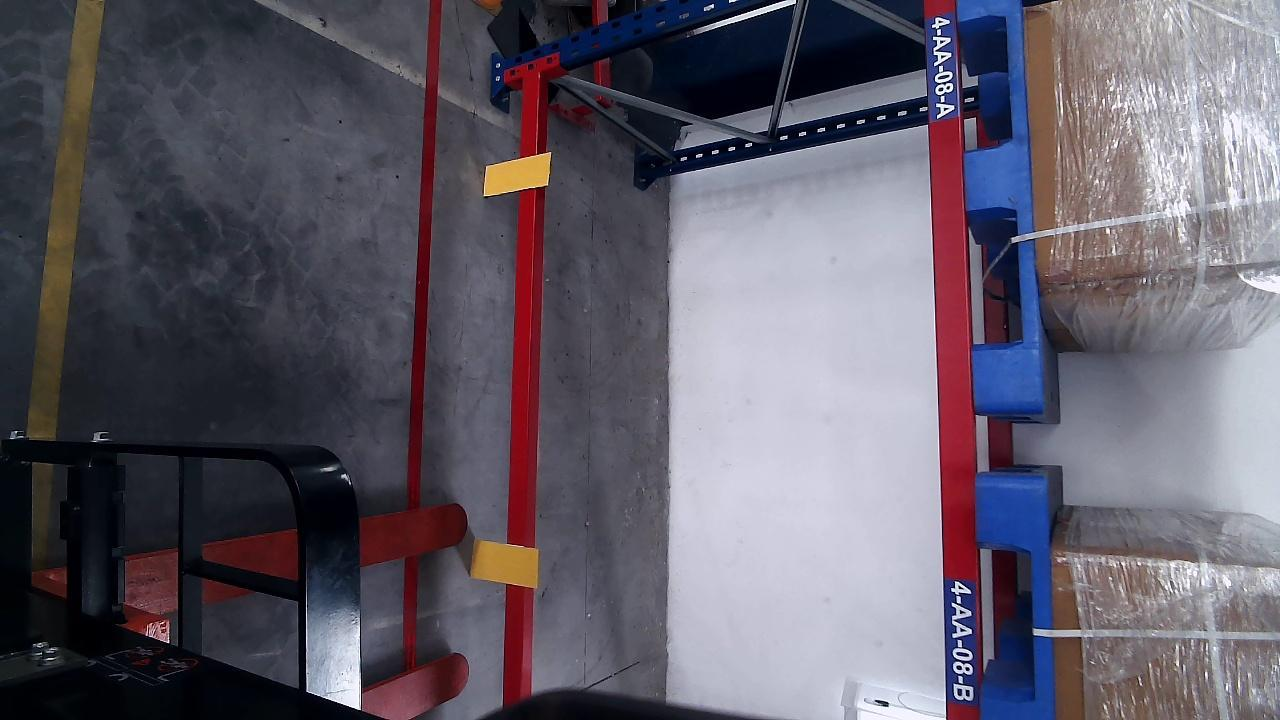h_rack: (925, 0, 982, 720), (504, 73, 540, 705)
orange_strip: (467, 532, 542, 597), (482, 153, 551, 194)
red_line: (404, 3, 445, 504)
small_pallet: (959, 2, 1041, 404), (973, 481, 1060, 718)
yellow_line: (20, 0, 107, 436)
